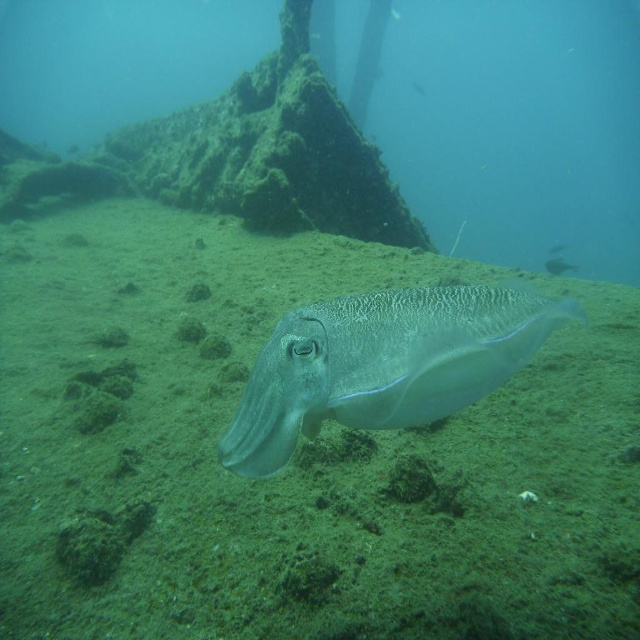Fish: (218, 276, 587, 476)
